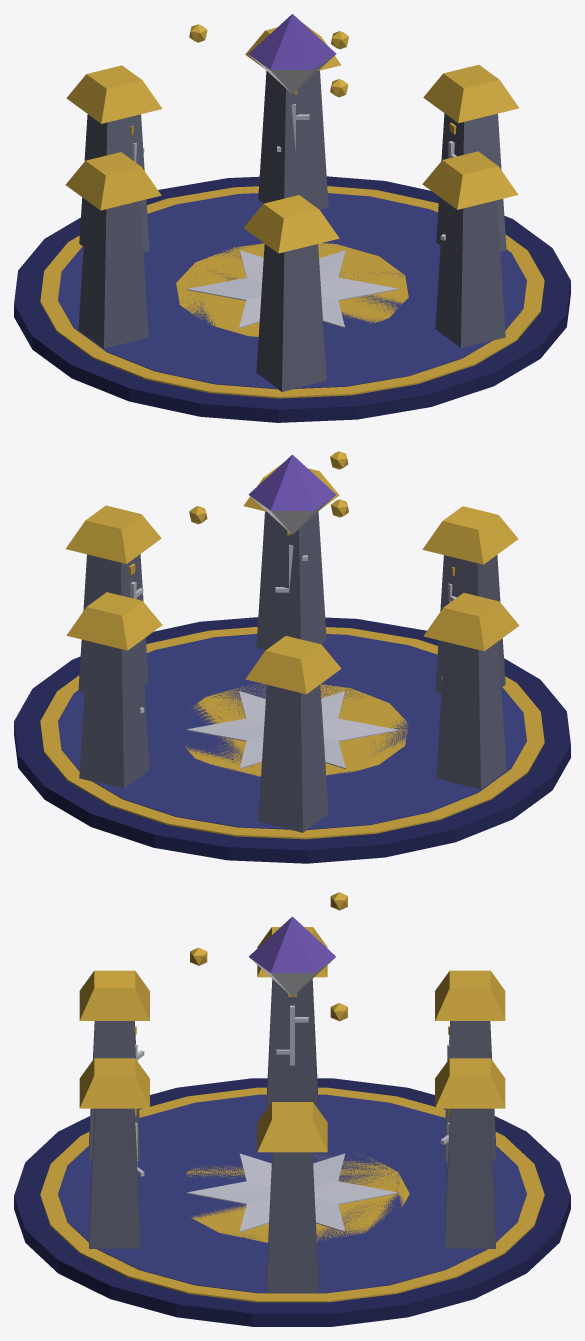
Rendered from Decor_ClockTower_RuneCircle.fbx.
The picture shows the model from 3 angles, top to bottom: view 1: azimuth 30°, elevation 25°; view 2: azimuth 150°, elevation 25°; view 3: azimuth 270°, elevation 25°; orthographic projection.
Parts seen in each view (by area): view 1: RuneCircle_Body; view 2: RuneCircle_Body; view 3: RuneCircle_Body.
Boxes of the visible parts, bbox=[...] form: RuneCircle_Body: bbox=[14, 14, 570, 422]; RuneCircle_Body: bbox=[14, 451, 570, 863]; RuneCircle_Body: bbox=[14, 892, 570, 1326].
Bounding box in the file's own units: 19 × 11 × 19.
